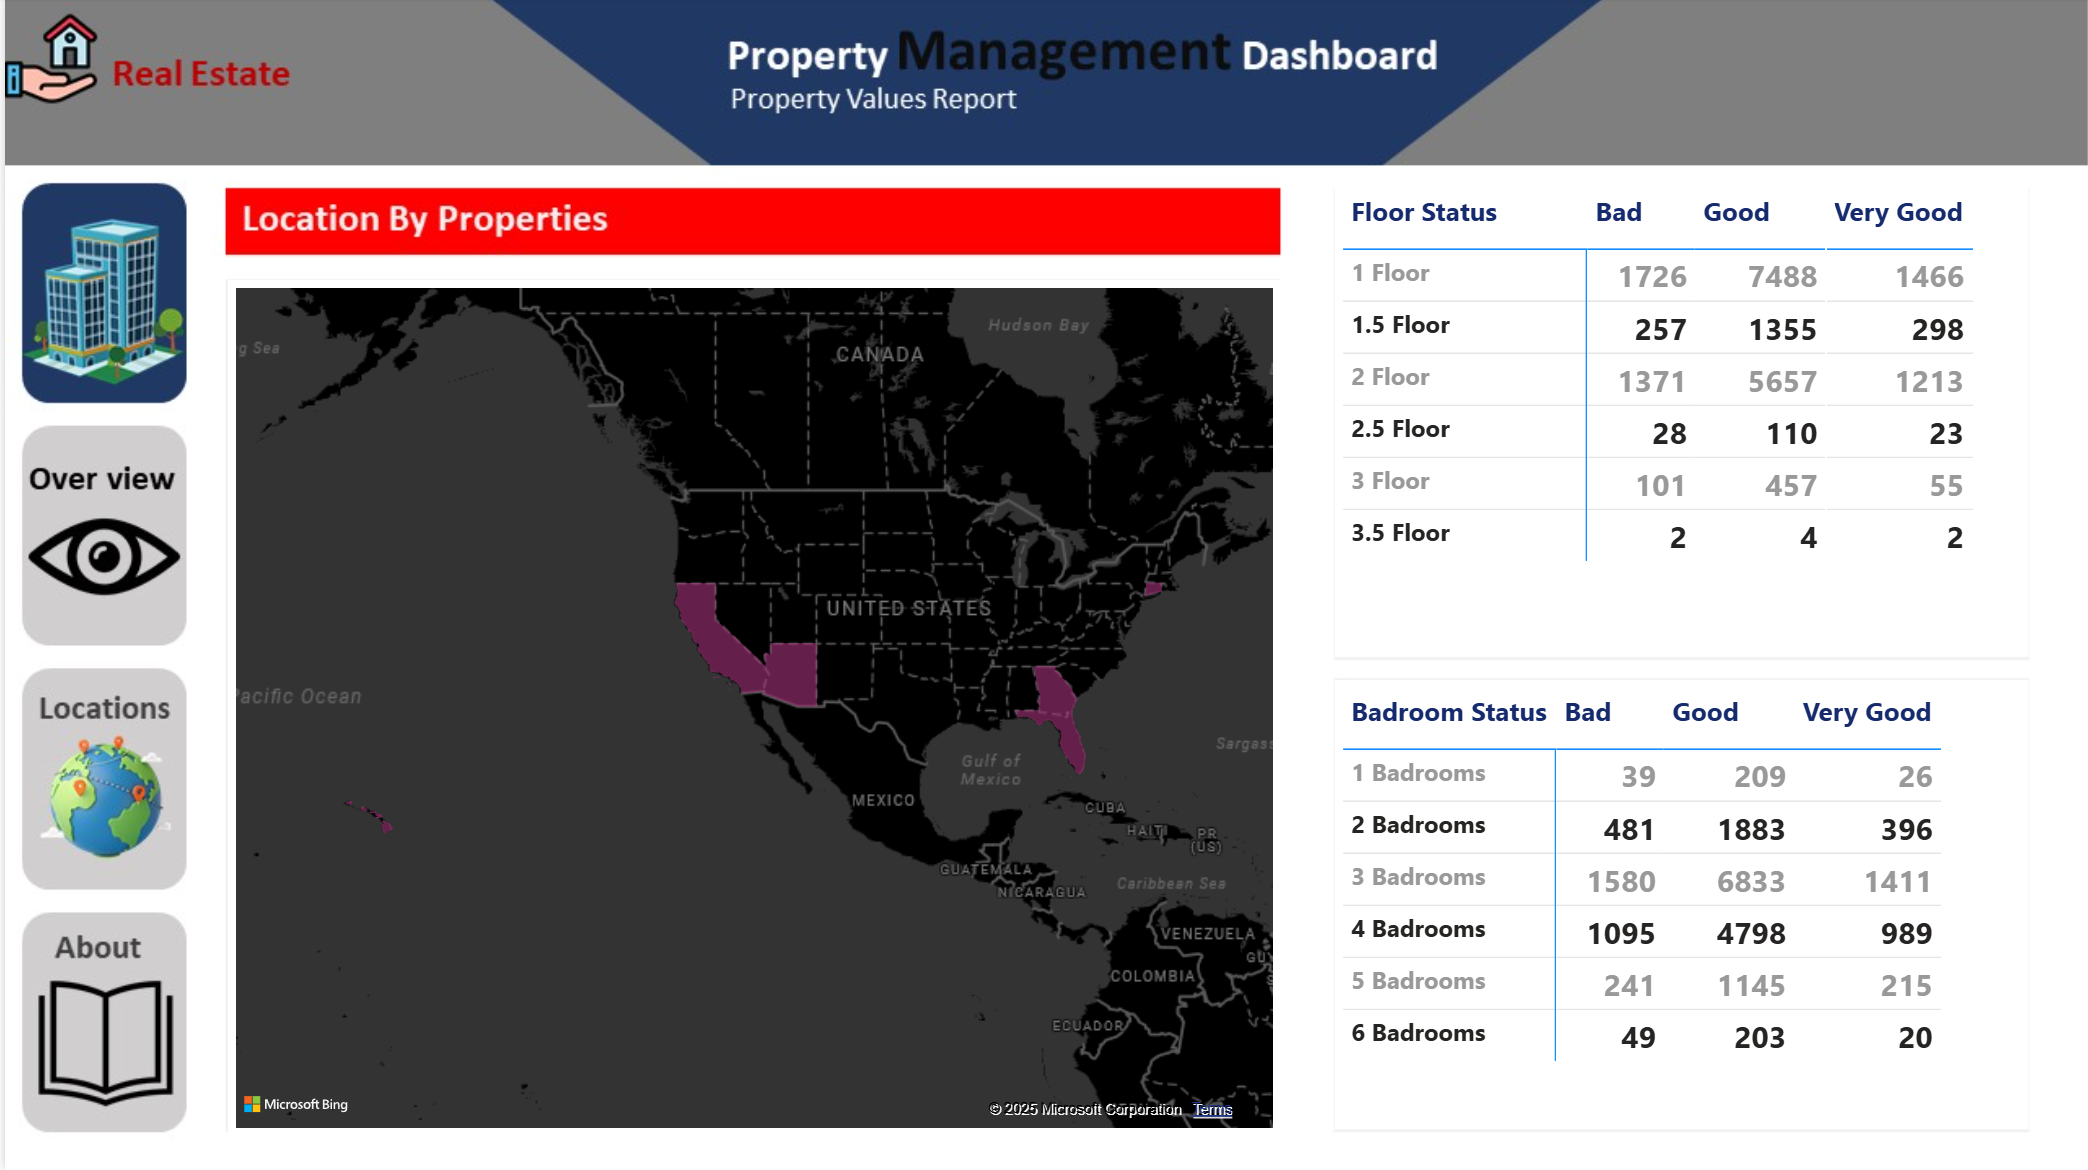

The page's visual inventory and layout, read from the dashboard file:
{"tool":"powerbi","page":{"name":"Page 2","canvas":[1280,720],"ordinal":1},"visuals":[{"type":"filledMap","fields":{"Category":["Fact Table.Property location"]},"box":[136.8,173.4,646.5,526.1],"z":0},{"type":"pivotTable","fields":{"Rows":["Dim_Floor.Floor Status"],"Columns":["Dim_Condition.Condition Status"],"Values":["Table.Total Properties"]},"box":[817.3,111.9,426,293.2],"z":1000},{"type":"pivotTable","fields":{"Columns":["Dim_Condition.Condition Status"],"Values":["Table.Total Properties"],"Rows":["Dim_Badrooms.Badroom Status"]},"box":[817.3,418.8,426,276.2],"z":2000}]}

Visuals, with their boxes in screenshot pixels (x1, y1, x2, y2), scaled from the page's 1280x720 canvas onto the 2088x1170 screenshot:
filledMap - Fact Table.Property location: 223:282:1278:1137
pivotTable - Dim_Floor.Floor Status x Dim_Condition.Condition Status: 1333:182:2028:658
pivotTable - Dim_Condition.Condition Status x Table.Total Properties: 1333:681:2028:1129
